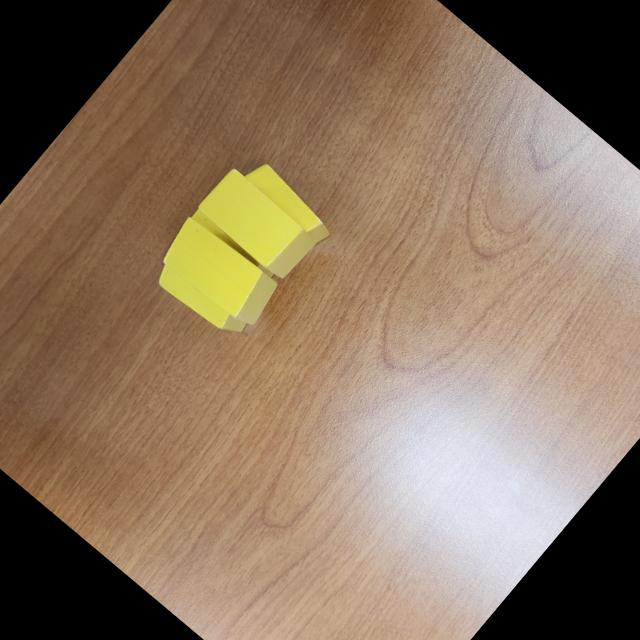yellow: (154, 211, 286, 334), (193, 164, 320, 284), (238, 156, 340, 248), (148, 255, 249, 347), (184, 203, 279, 287)
